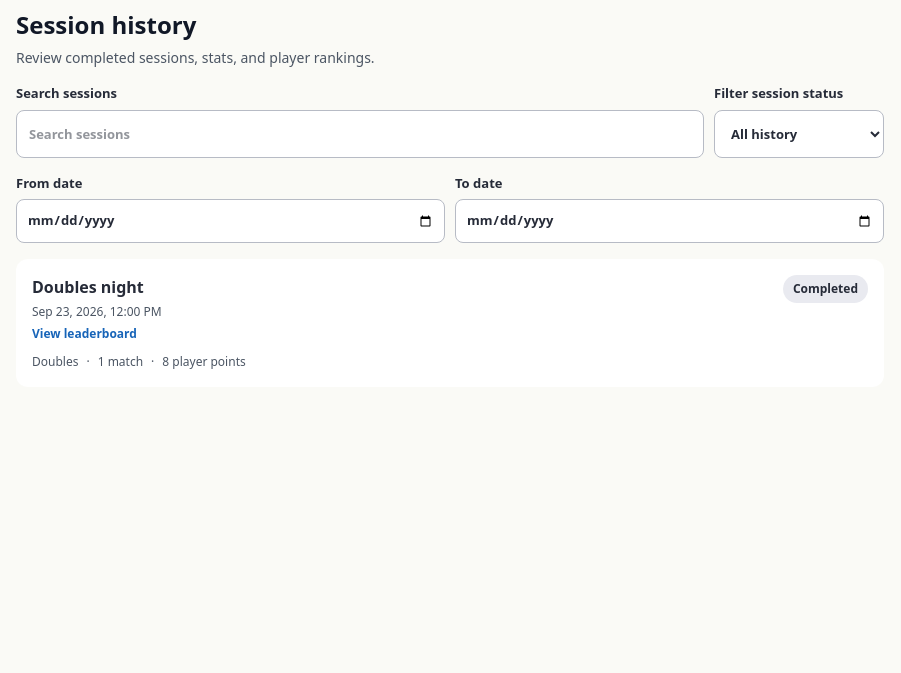
one doubles match is counted once, and expanding uses the same fetched leaderboard
Check: the text "1 match" is shown, box [86, 353, 143, 371]
What coordinates should you click on to do the following:
click the button "Doubles night"
I would click on:
 (88, 287)
Its box is [32, 275, 868, 343].
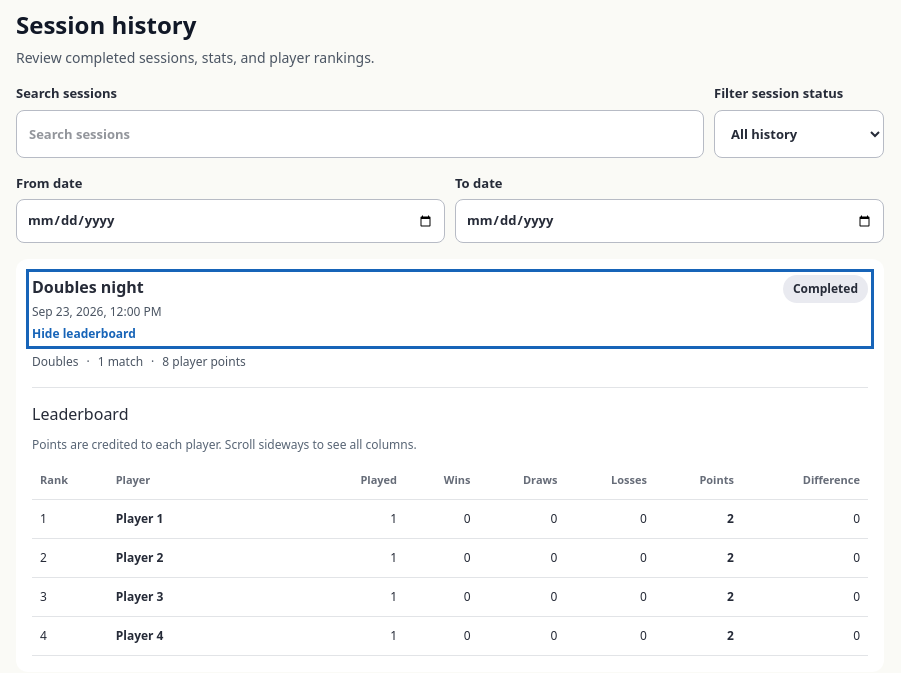
Check: the table is shown, box [32, 462, 868, 656]
What coordinates should you click on to do the following:
click the button "Doubles night"
I would click on:
 (88, 287)
Its box is [32, 275, 868, 343].
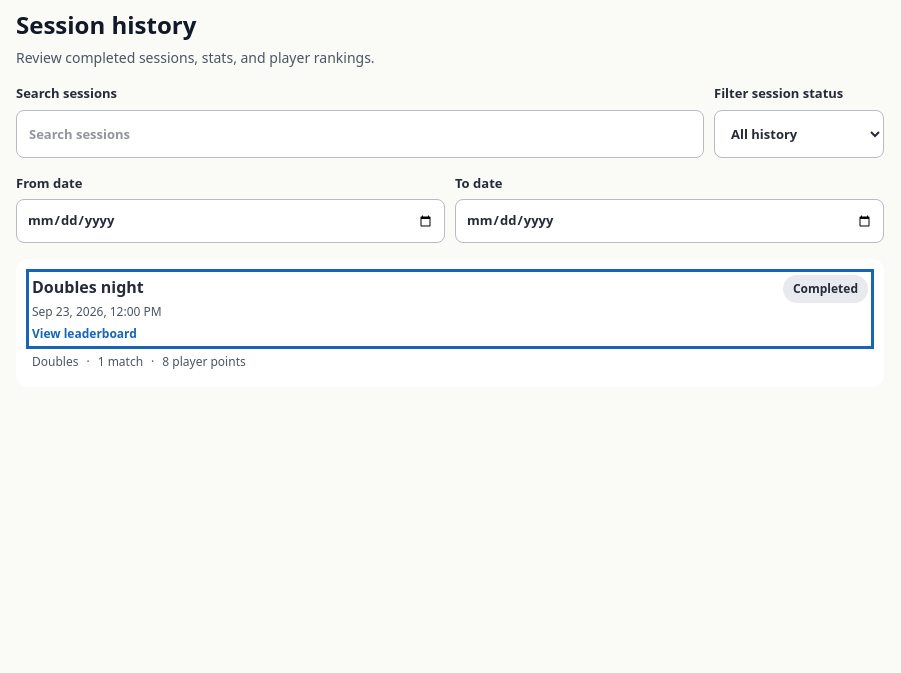
Check: the table is gone
